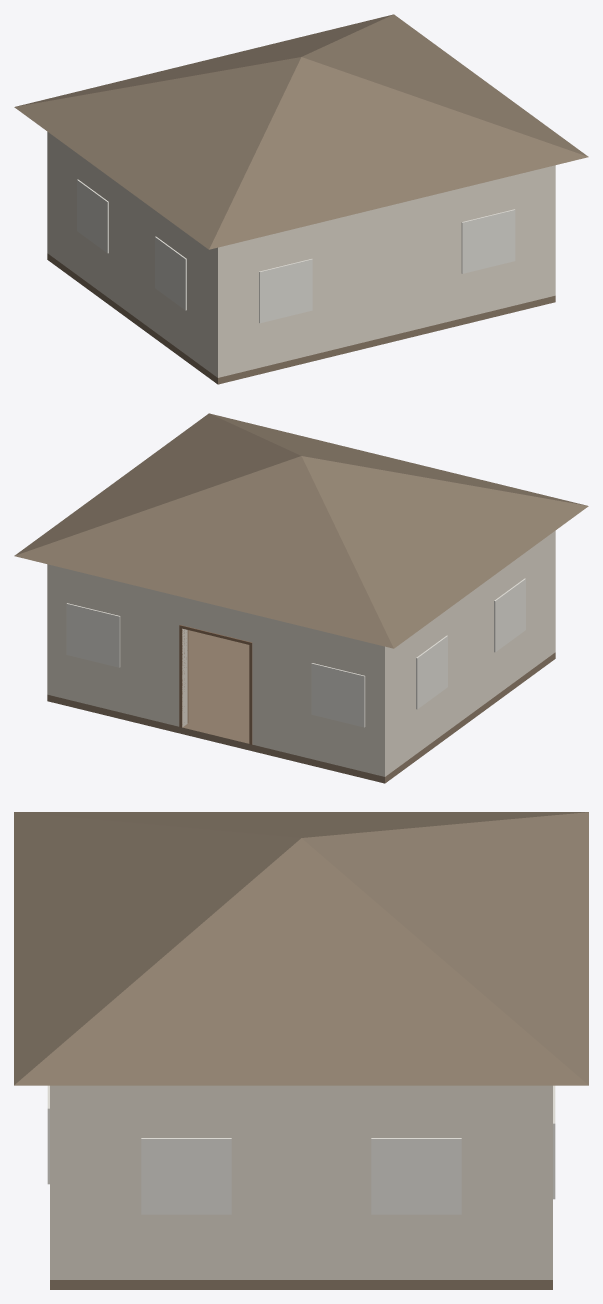
File: house-c.glb
3 views of the same model, one above another, from view 1: azimuth 30°, elevation 25°; view 2: azimuth 150°, elevation 25°; view 3: azimuth 270°, elevation 25° (orthographic). The views are drawn at different scales.
Parts seen in each view (by area): view 1: roof, wall_back, wall_left, floor, winframe.005, winframe.004, winframe, winframe.001, front_L; view 2: roof, wall_left, front_L, front_R, floor, winframe.006, winframe.007, front_lintel, winframe, winframe.001, wall_right, wall_back (+1 smaller); view 3: roof, wall_right, winframe.002, winframe.003, floor, wall_back, front_R.
Part boxes in pixels (x1=…): roof: x1=14, y1=14, x2=588, y2=249; wall_back: x1=212, y1=165, x2=555, y2=377; wall_left: x1=47, y1=132, x2=227, y2=377; floor: x1=47, y1=253, x2=555, y2=384; winframe.005: x1=461, y1=209, x2=515, y2=273; winframe.004: x1=259, y1=259, x2=312, y2=323; winframe: x1=155, y1=236, x2=186, y2=310; winframe.001: x1=77, y1=179, x2=108, y2=253; front_L: x1=47, y1=132, x2=52, y2=256; roof: x1=14, y1=413, x2=588, y2=648; wall_left: x1=375, y1=532, x2=555, y2=776; front_L: x1=250, y1=613, x2=390, y2=776; front_R: x1=47, y1=564, x2=187, y2=727; floor: x1=47, y1=630, x2=555, y2=783; winframe.006: x1=311, y1=663, x2=365, y2=727; winframe.007: x1=66, y1=603, x2=120, y2=667; front_lintel: x1=182, y1=597, x2=249, y2=641; winframe: x1=494, y1=578, x2=525, y2=652; winframe.001: x1=416, y1=635, x2=447, y2=709; wall_right: x1=47, y1=565, x2=56, y2=696; wall_back: x1=550, y1=531, x2=555, y2=655; roof: x1=14, y1=812, x2=588, y2=1085; wall_right: x1=50, y1=1085, x2=552, y2=1279; winframe.002: x1=141, y1=1138, x2=231, y2=1214; winframe.003: x1=371, y1=1138, x2=461, y2=1214; floor: x1=50, y1=1280, x2=552, y2=1289; wall_back: x1=50, y1=1085, x2=65, y2=1279; front_R: x1=537, y1=1085, x2=552, y2=1279.
Bounding box in the file's own units: 9 × 5.07 × 8.
